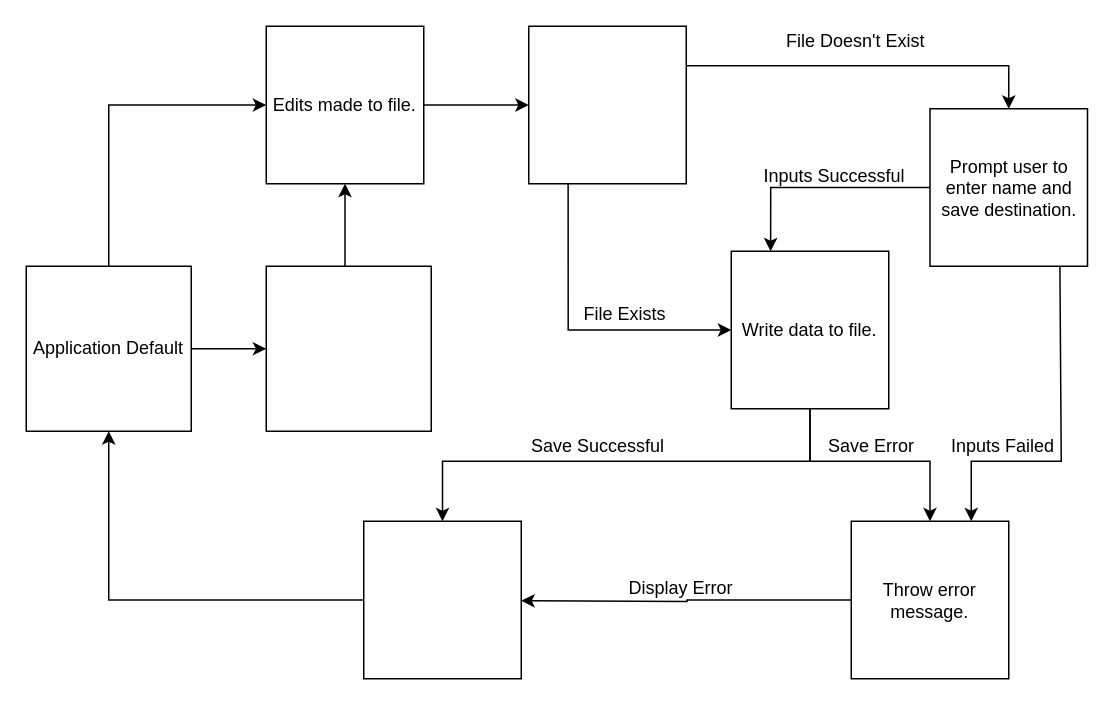
Some shapes in this 1115 by 705 pixel diagram are drawn without their labels. Here are the shapes that lost their labels. From the top down, the centre of each, then its label:
(x=606, y=104): Save File.
(x=348, y=348): New File.
(x=441, y=599): File Loaded.
